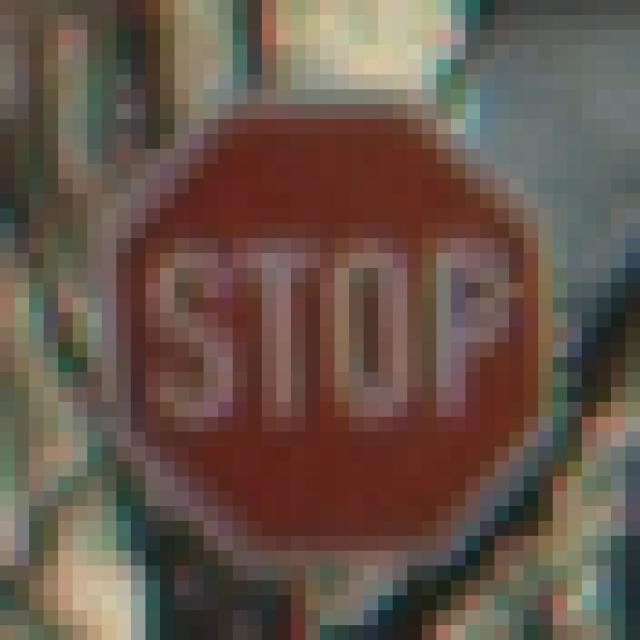STOP: (74, 76, 554, 567)
